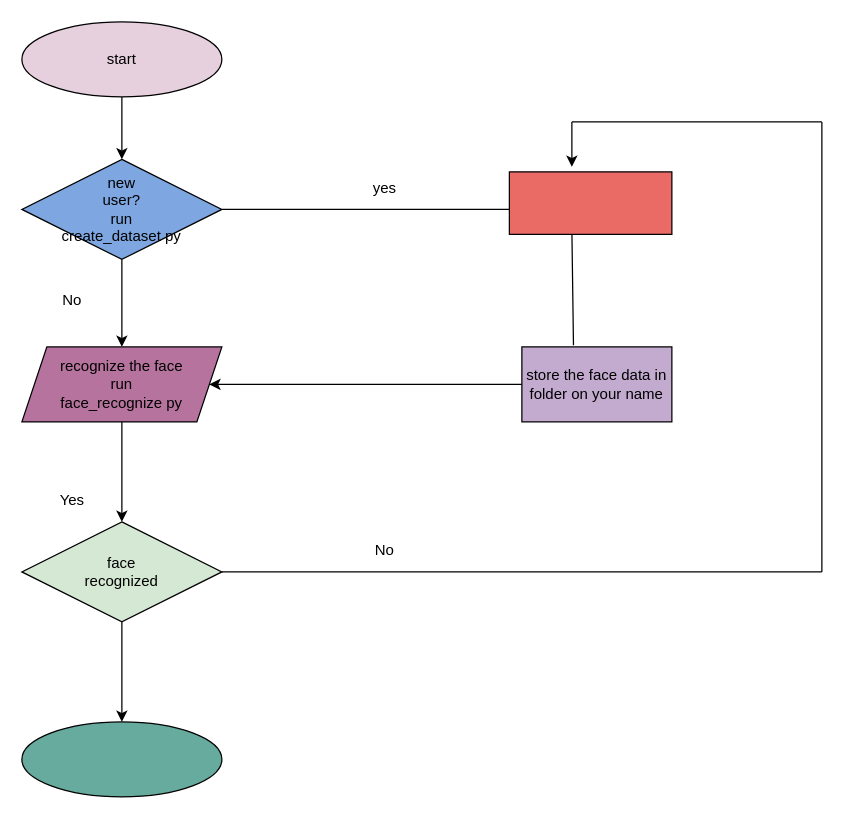
Some shapes in this 845 by 819 pixel diagram are drawn without their labels. Each missing label, with the centre of its shape:
"end" belongs at point 121,759.
"give your photograph" belongs at point 590,202.
